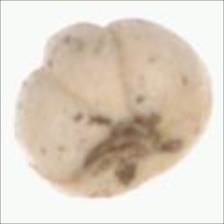L5: (75, 104, 186, 185), (40, 19, 125, 113)
L6: (11, 15, 214, 201)
